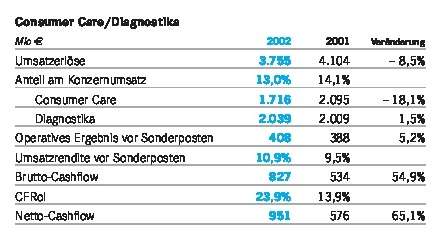table: (0, 0, 444, 242)
